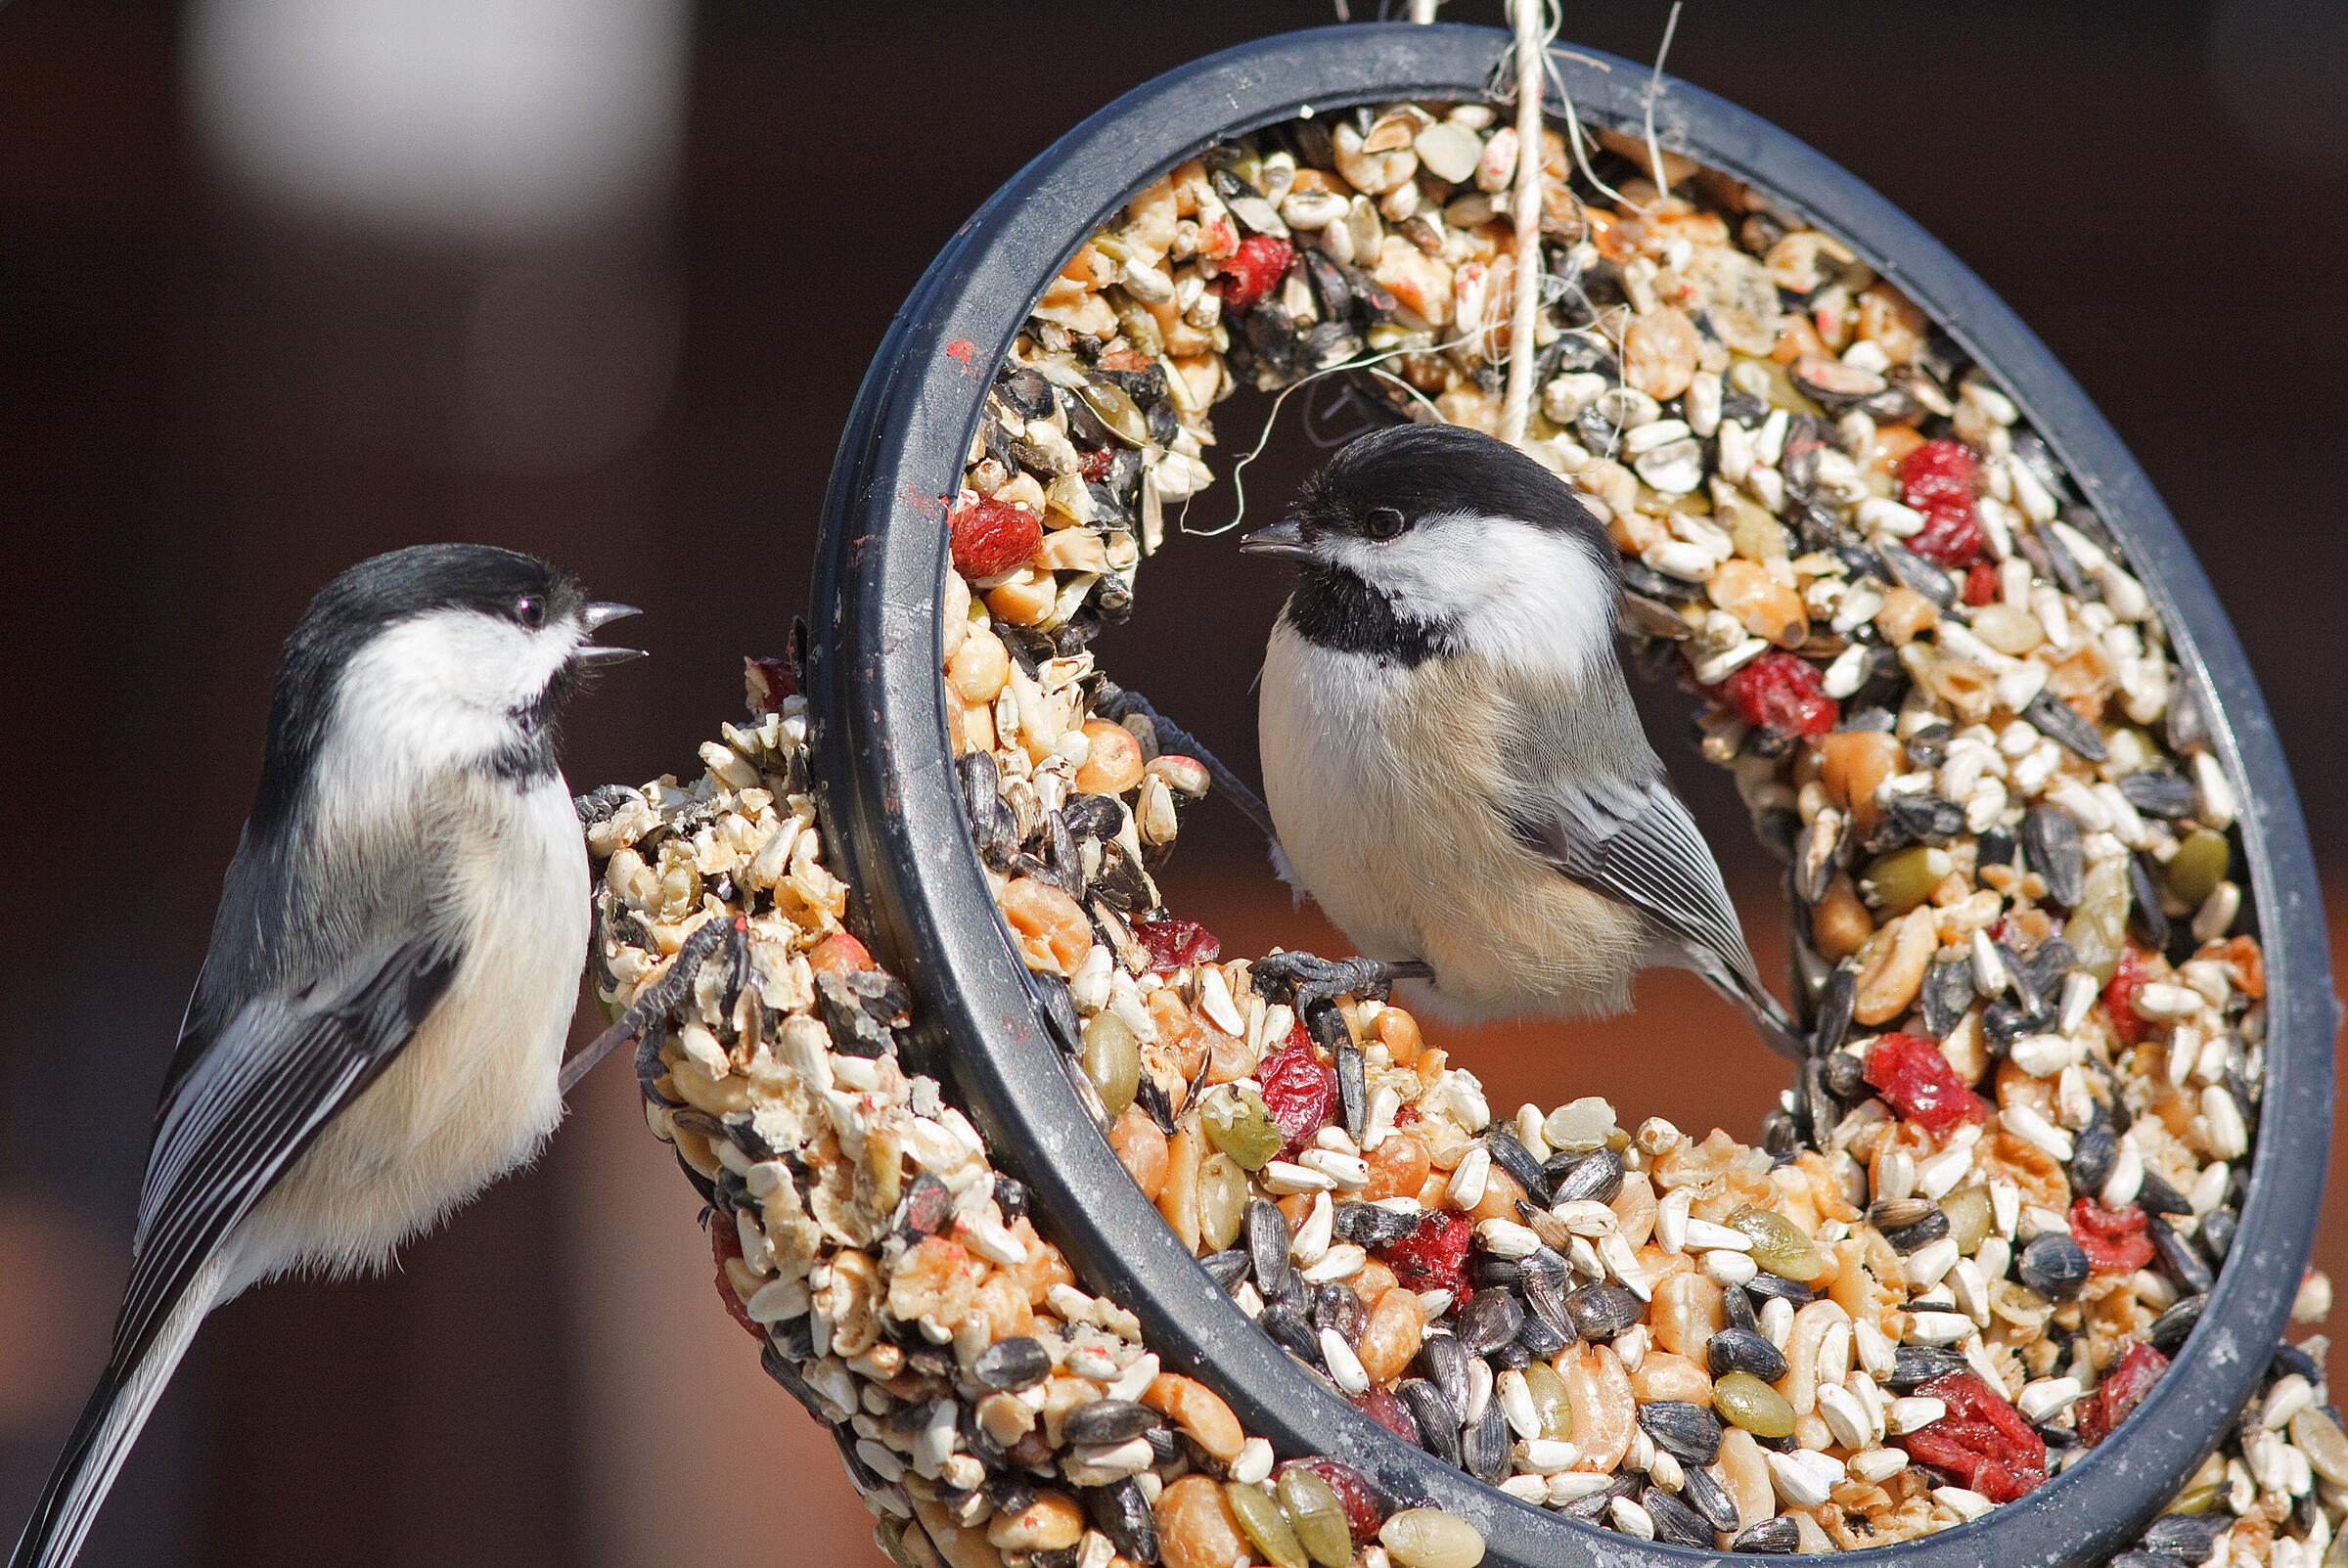bird: (2, 476, 665, 1568), (1146, 374, 1846, 1111)
